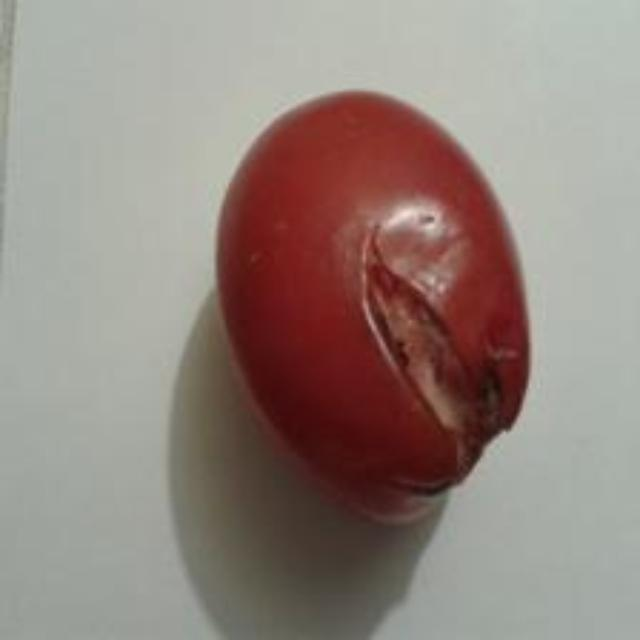defect: (209, 85, 540, 535)
